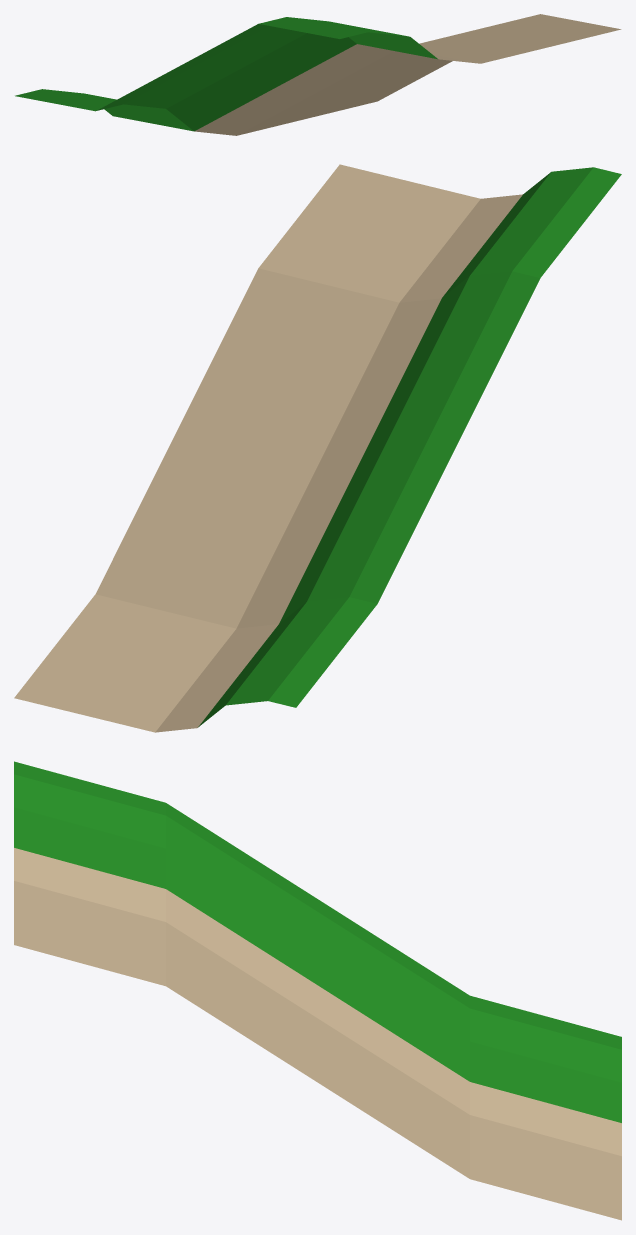
File: Hilly_Terrain_Path_Hill_Sharp_Plain_Side.obj
The picture shows the model from 3 angles, top to bottom: view 1: azimuth 30°, elevation 25°; view 2: azimuth 150°, elevation 25°; view 3: azimuth 270°, elevation 25°; orthographic projection. The views are drawn at different scales.
Visible parts, largest first — view 1: object1; view 2: object1; view 3: object1.
Boxes of the visible parts, x1=… form: object1: x1=15, y1=14, x2=621, y2=135; object1: x1=14, y1=164, x2=621, y2=732; object1: x1=14, y1=761, x2=621, y2=1220.
Bounding box in the file's own units: 1 × 1.2 × 2.
